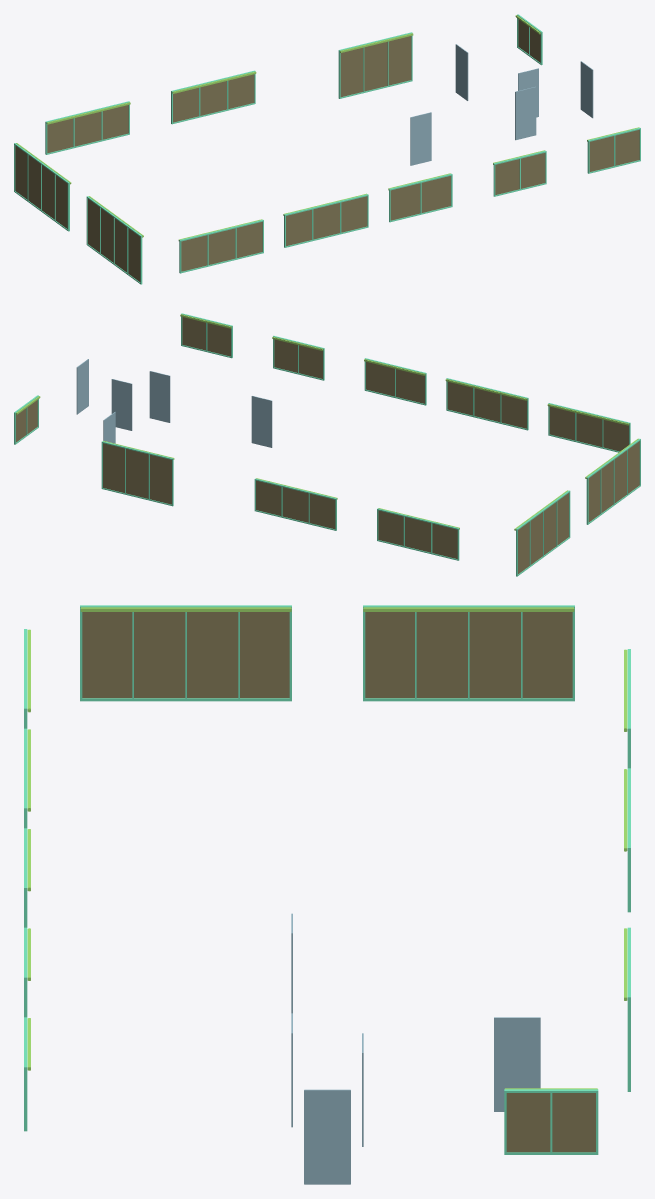
The model's file is structure.glb.
3 views of the same model, one above another, from view 1: azimuth 30°, elevation 25°; view 2: azimuth 150°, elevation 25°; view 3: azimuth 270°, elevation 25° (orthographic). The views are drawn at different scales.
Parts seen in each view (by area): view 1: FEN16_N, FEN7_S, FEN8_S, FEN10_W, FEN12_N, FEN13_N, FEN11_W, FEN9_S, FEN14_S, FEN15_S, PORTE3, PORTE2 (+4 smaller); view 2: FEN16_N, FEN13_N, FEN12_N, FEN8_S, FEN11_W, FEN10_W, FEN7_S, FEN9_S, FEN15_S, FEN14_S, PORTE2, PORTE3 (+3 smaller); view 3: FEN10_W, FEN11_W, FEN17_E, ENT1_E, PORTE6, FEN16_N, FEN13_N.
Part boxes in pixels (box(x1,y1,x2,y2)): FEN16_N: box(338, 32, 413, 98); FEN7_S: box(178, 219, 263, 273); FEN8_S: box(283, 193, 368, 247); FEN10_W: box(86, 196, 143, 284); FEN12_N: box(45, 101, 130, 154); FEN13_N: box(171, 70, 256, 124); FEN11_W: box(14, 143, 71, 231); FEN9_S: box(388, 173, 452, 222); FEN14_S: box(493, 150, 546, 196); FEN15_S: box(587, 127, 640, 173); PORTE3: box(515, 86, 536, 140); PORTE2: box(410, 112, 431, 165); FEN16_N: box(101, 441, 174, 506); FEN13_N: box(254, 478, 337, 530); FEN12_N: box(377, 508, 459, 560); FEN8_S: box(445, 378, 528, 430); FEN11_W: box(514, 490, 570, 576); FEN10_W: box(585, 438, 640, 524); FEN7_S: box(547, 403, 630, 452); FEN9_S: box(364, 358, 426, 405); FEN15_S: box(180, 313, 232, 358); FEN14_S: box(272, 335, 324, 380); PORTE2: box(251, 396, 272, 447); PORTE3: box(149, 371, 170, 422); FEN10_W: box(80, 605, 291, 701); FEN11_W: box(363, 605, 574, 701); FEN17_E: box(504, 1088, 598, 1154); ENT1_E: box(304, 1089, 350, 1184); PORTE6: box(494, 1017, 540, 1111); FEN16_N: box(624, 927, 630, 1091); FEN13_N: box(624, 768, 630, 912).
Bounding box in the file's own units: 24.38 × 2.21 × 12.88.
